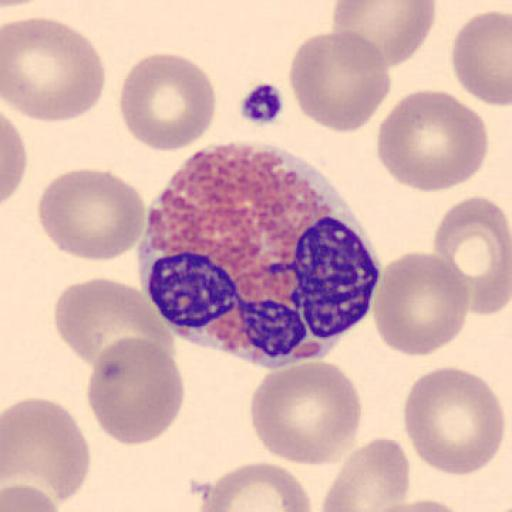Platelet: (235, 79, 288, 128)
RBC: (248, 359, 364, 468), (51, 277, 175, 375), (376, 88, 490, 194), (402, 364, 506, 478), (2, 16, 106, 124), (86, 336, 186, 447), (288, 30, 392, 134), (372, 250, 471, 359), (36, 167, 146, 263), (117, 52, 217, 153), (2, 396, 92, 507), (432, 194, 512, 318), (331, 0, 437, 68), (319, 436, 412, 512), (451, 9, 512, 108), (198, 460, 313, 512), (0, 469, 64, 512), (0, 111, 28, 209), (354, 488, 460, 512), (361, 496, 481, 512), (2, 482, 62, 512), (374, 498, 465, 512), (2, 0, 42, 13), (2, 0, 45, 7)
WBC: (140, 139, 379, 367)
